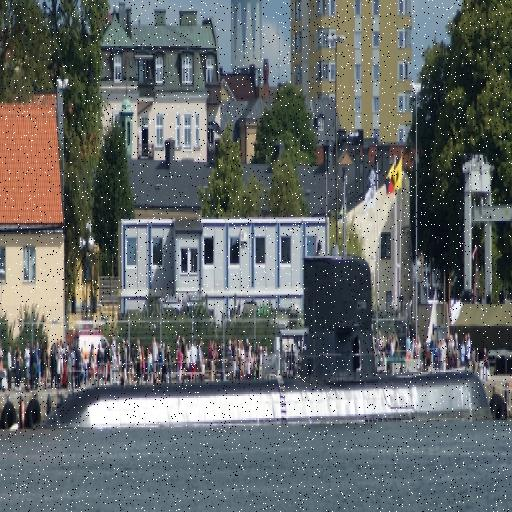submarine: (53, 241, 501, 429)
